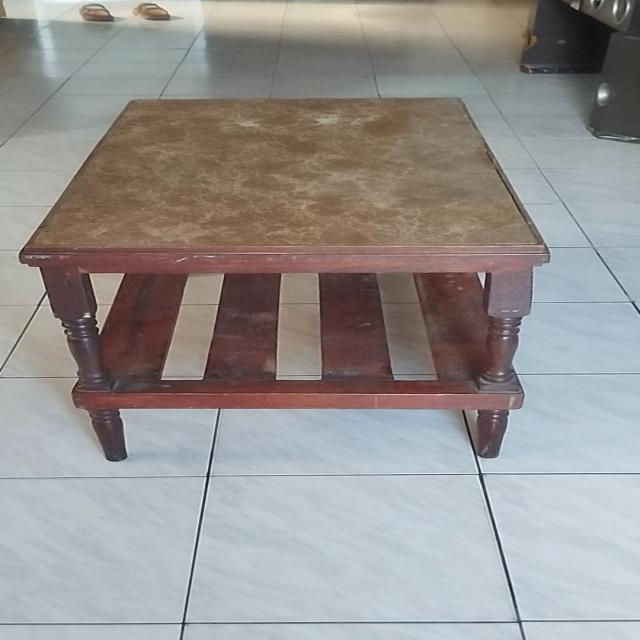table: (24, 97, 550, 461)
